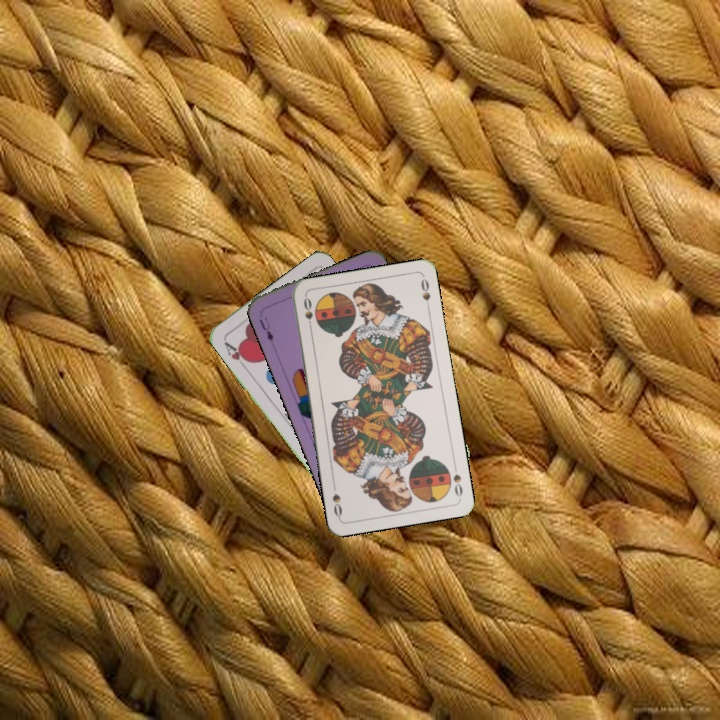EU: (255, 315, 276, 344)
HA: (220, 337, 253, 371)
SO: (299, 293, 316, 334), (449, 460, 465, 499)
